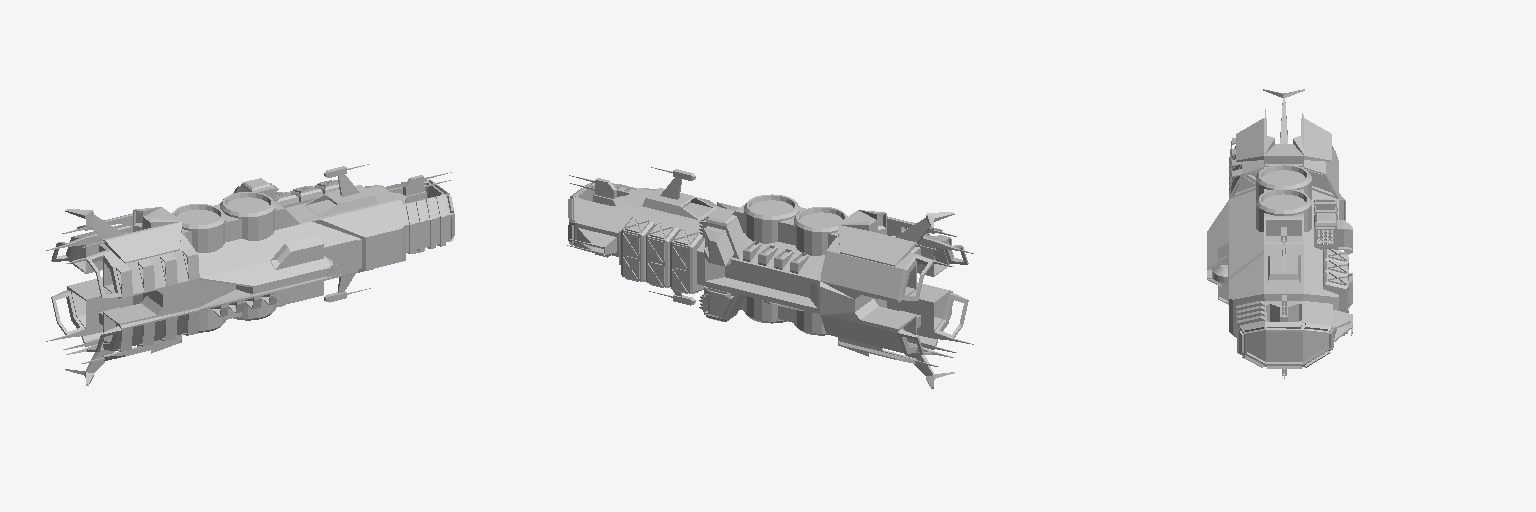
File: ship2.obj
The picture shows the model from 3 angles: view 1: azimuth 30°, elevation 25°; view 2: azimuth 150°, elevation 25°; view 3: azimuth 270°, elevation 25°; orthographic projection.
Visible parts, largest first — view 1: Mesh_ship_hull; view 2: Mesh_ship_hull; view 3: Mesh_ship_hull.
Part boxes in pixels (x1,y1,x2,y2): Mesh_ship_hull: (46,164,454,385); Mesh_ship_hull: (567,167,973,388); Mesh_ship_hull: (1207,89,1352,378).
Bounding box in the file's own units: 132 × 53.16 × 42.08.